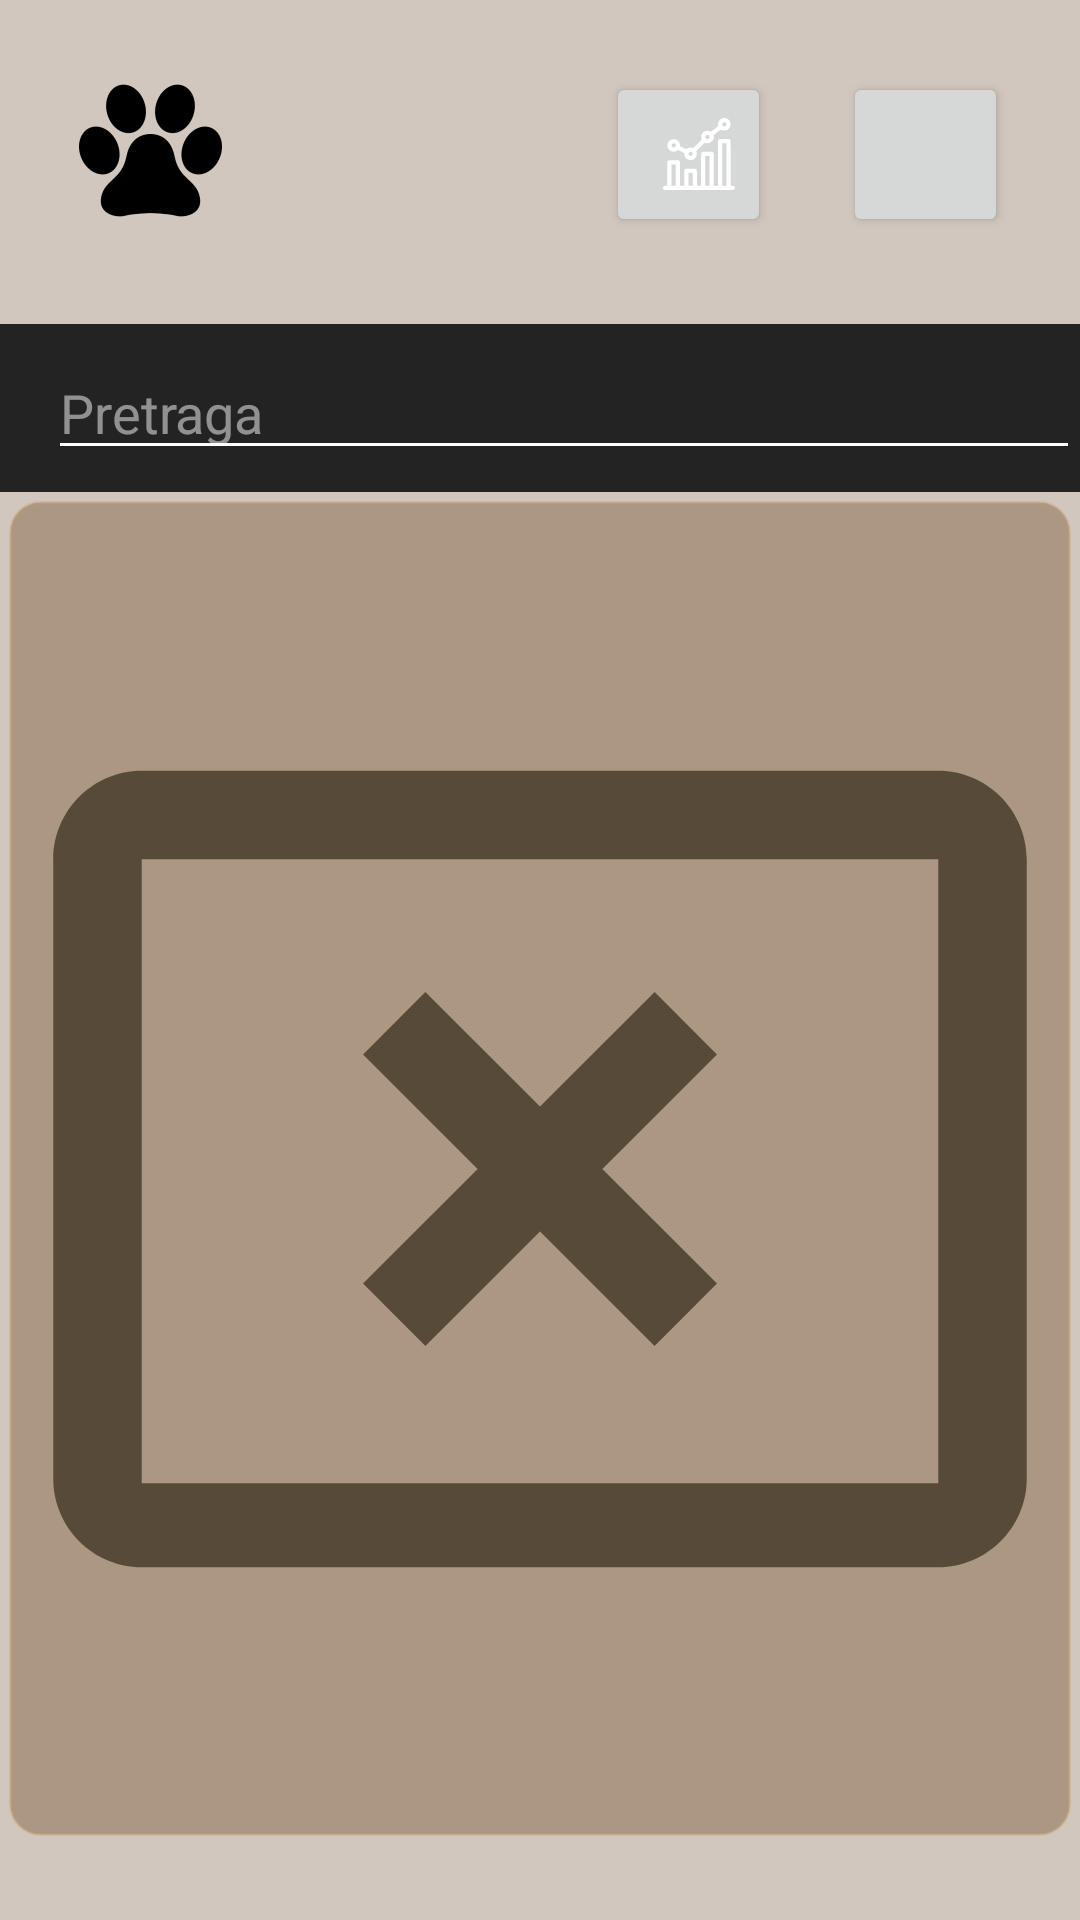

Icons on this 1080px x 1920px Android screen, each with the point to tap as [x,y]:
paw: [150,150]
